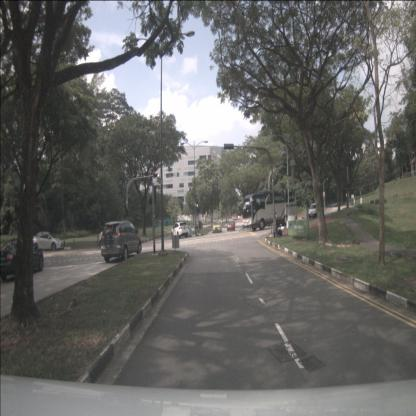human-pedestrian-adult: (274, 212, 278, 239)
vehicle-car: (0, 237, 45, 281), (100, 220, 142, 263), (31, 230, 63, 252), (171, 221, 190, 238), (308, 202, 319, 220), (212, 220, 222, 233), (227, 220, 235, 232)
